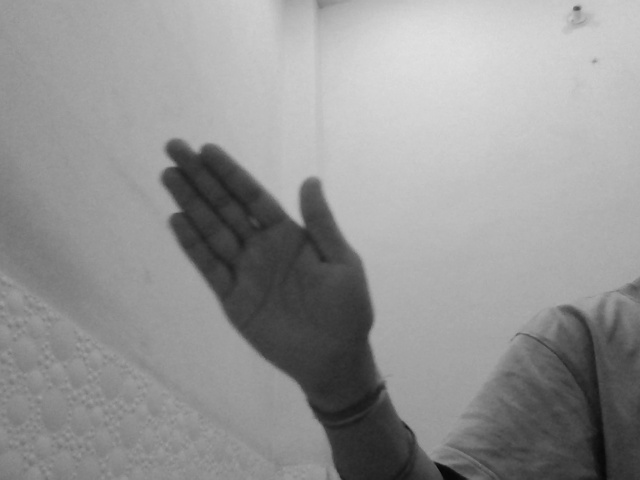Hello: (157, 136, 376, 398)
